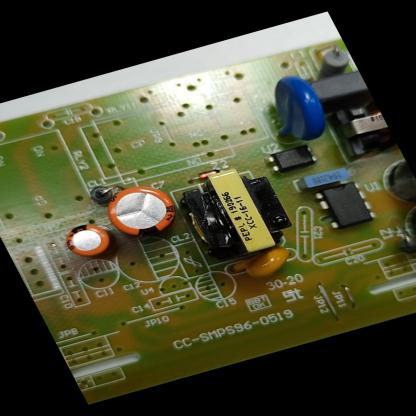Cap1: (92, 176, 191, 247)
Cap2: (52, 215, 124, 265)
Cap3: (367, 152, 416, 212)
Cap4: (391, 198, 416, 258)
MOSFET: (306, 175, 385, 236)
Mov: (245, 68, 342, 151)
Resistor: (304, 44, 362, 90)
Transformer: (164, 158, 304, 270), (316, 95, 401, 169)
